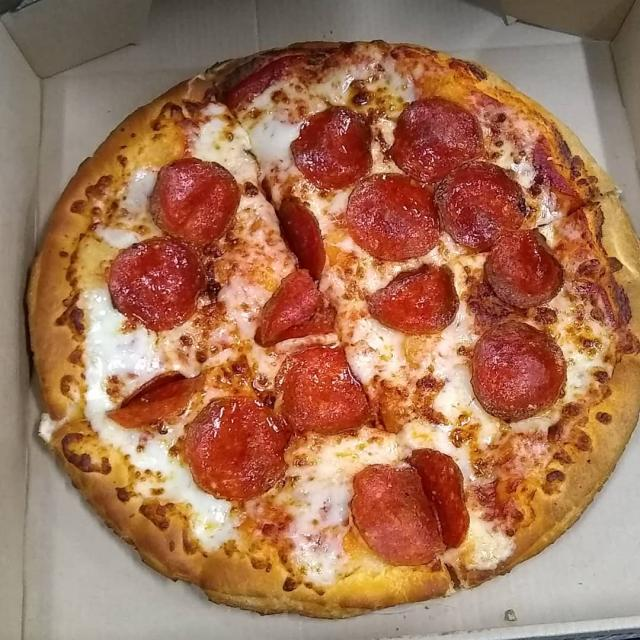pepperoni: (352, 448, 471, 565), (187, 396, 288, 503), (473, 319, 567, 425), (348, 165, 444, 262), (276, 342, 372, 437), (109, 237, 208, 329), (433, 159, 528, 254), (391, 100, 484, 182), (291, 104, 374, 194), (150, 160, 240, 242), (364, 265, 458, 335), (483, 228, 565, 305), (254, 270, 337, 344), (106, 369, 204, 429), (270, 190, 328, 278)
pizza: (27, 42, 640, 618)
